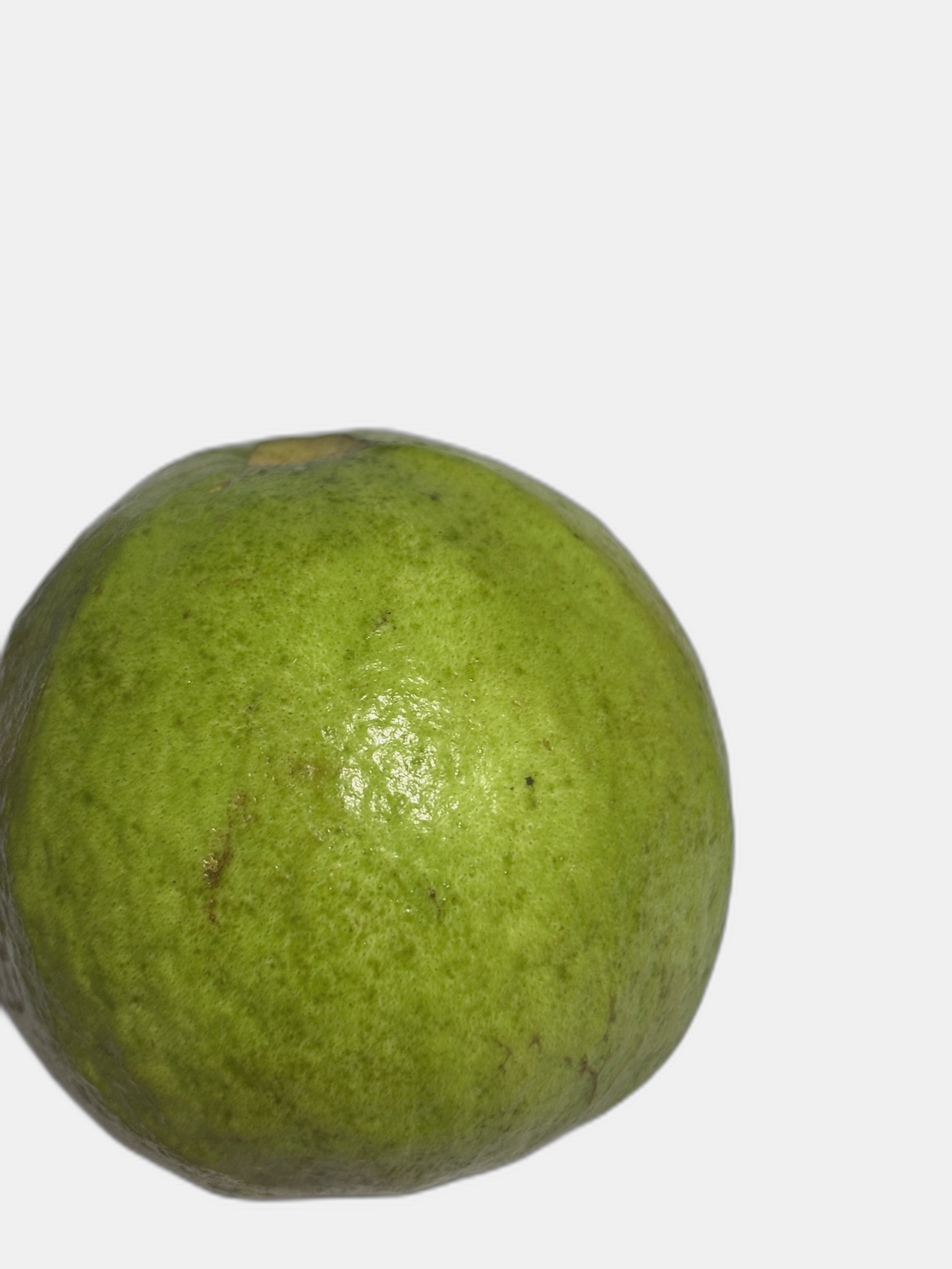guava: (214, 148, 858, 1098)
